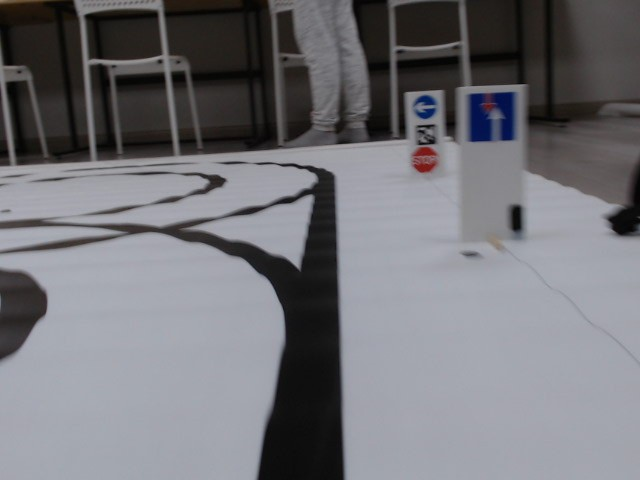Stop: (409, 146, 437, 172)
priority_movement: (466, 91, 517, 144)
